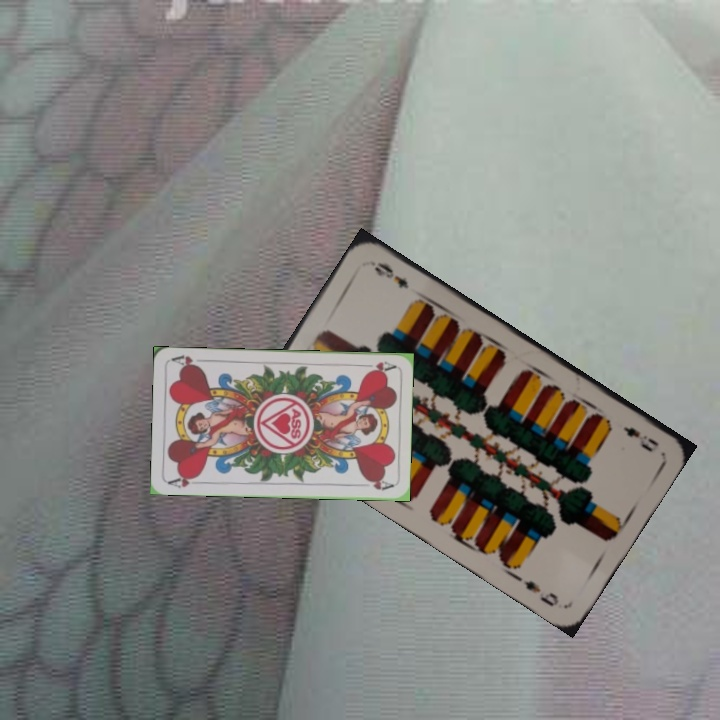E9: (618, 422, 661, 455)
HA: (165, 471, 205, 491), (357, 357, 397, 375)
